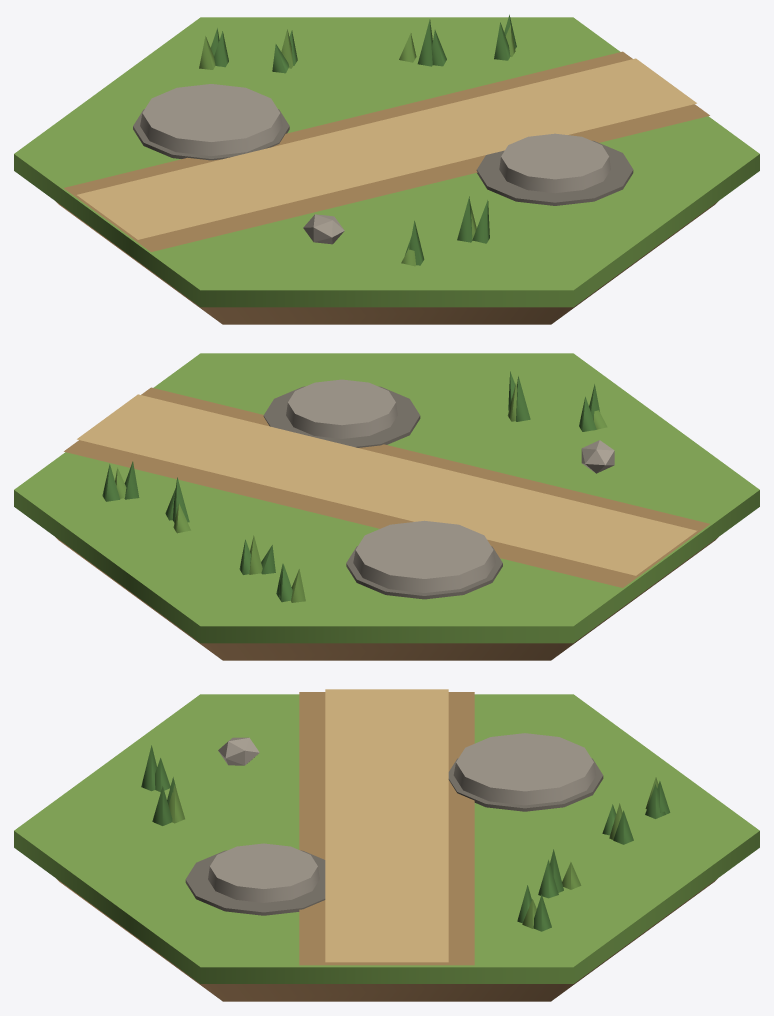
The model's file is tile_empty.glb.
3 renders of one model, top to bottom at view 1: azimuth 30°, elevation 25°; view 2: azimuth 150°, elevation 25°; view 3: azimuth 270°, elevation 25°, orthographic.
Parts seen in each view (by area): view 1: turf, road, tower_slot_1_plate, tile_base, tower_slot_2_plate, tower_slot_2_apron, tower_slot_1_apron, rock; view 2: turf, road, tower_slot_1_plate, tile_base, tower_slot_2_plate, tower_slot_2_apron, tower_slot_1_apron, rock; view 3: turf, road, tower_slot_1_plate, tile_base, tower_slot_2_plate, tower_slot_2_apron, tower_slot_1_apron, rock.
Part boxes in pixels (box(x1,y1,x2,y2)): turf: box(14, 17, 759, 307); road: box(64, 51, 709, 251); tower_slot_1_plate: box(140, 84, 282, 156); tile_base: box(56, 202, 717, 324); tower_slot_2_plate: box(499, 133, 610, 193); tower_slot_2_apron: box(476, 140, 633, 205); tower_slot_1_apron: box(133, 109, 289, 160); rock: box(303, 214, 344, 244); turf: box(14, 353, 759, 643); road: box(64, 387, 709, 587); tower_slot_1_plate: box(353, 520, 495, 592); tile_base: box(55, 537, 718, 660); tower_slot_2_plate: box(286, 379, 397, 438); tower_slot_2_apron: box(263, 386, 420, 447); tower_slot_1_apron: box(346, 546, 502, 599); rock: box(581, 440, 614, 473); turf: box(14, 694, 759, 983); road: box(299, 689, 474, 965); tower_slot_1_plate: box(453, 733, 596, 805); tile_base: box(56, 878, 717, 1001); tower_slot_2_plate: box(208, 843, 319, 902); tower_slot_2_apron: box(185, 850, 325, 915); tower_slot_1_apron: box(448, 758, 603, 811); rock: box(218, 737, 259, 765).
Size of the model in its own units: 1.73 by 0.279 by 2.
